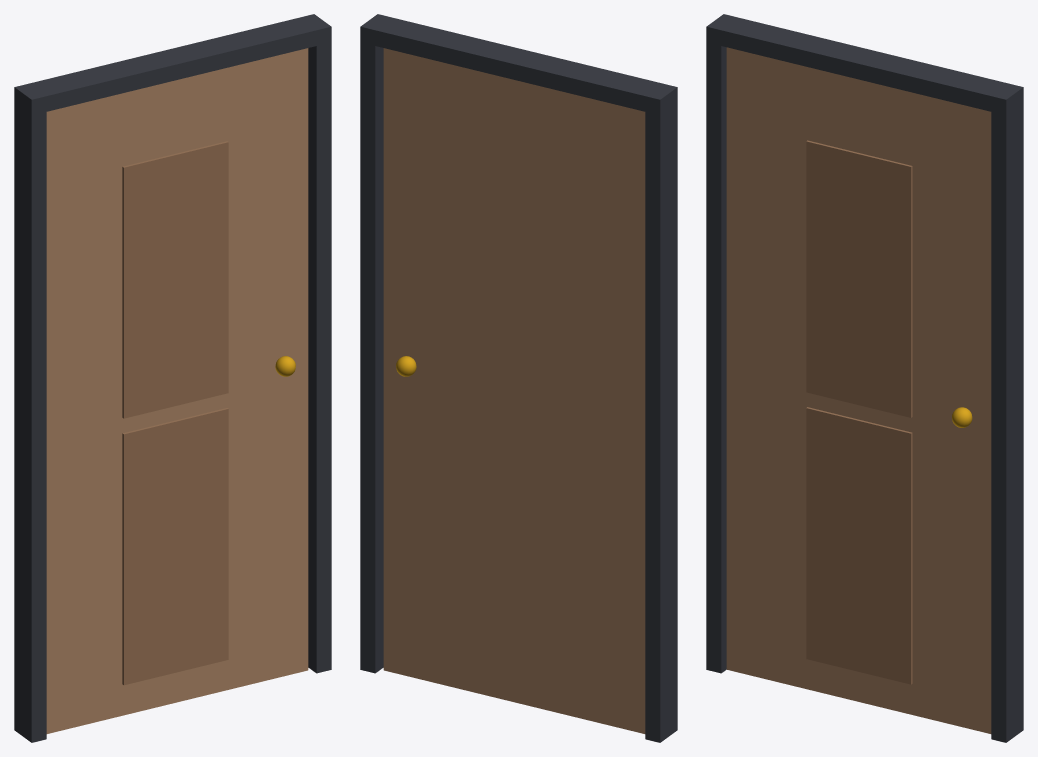
Rendered from door.glb.
3 views of the same model, side by side, from view 1: azimuth 30°, elevation 25°; view 2: azimuth 150°, elevation 25°; view 3: azimuth 330°, elevation 25° (orthographic).
Parts seen in each view (by area): view 1: box (×6); view 2: box (×4); view 3: box (×6).
Part boxes in pixels (bbox=[...]): box (×6): bbox=[14, 14, 331, 742]; box (×4): bbox=[360, 14, 677, 742]; box (×6): bbox=[706, 14, 1023, 742].
Bounding box in the file's own units: 1 × 2.05 × 0.15.
